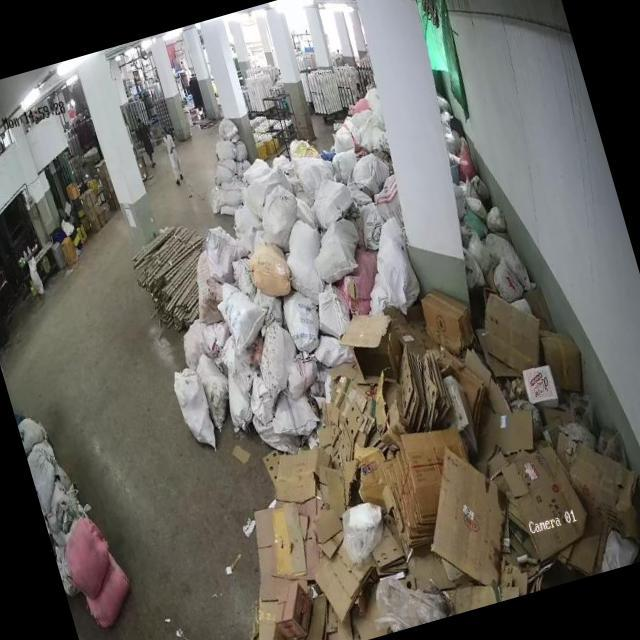person: (160, 124, 187, 184), (134, 114, 158, 168)
